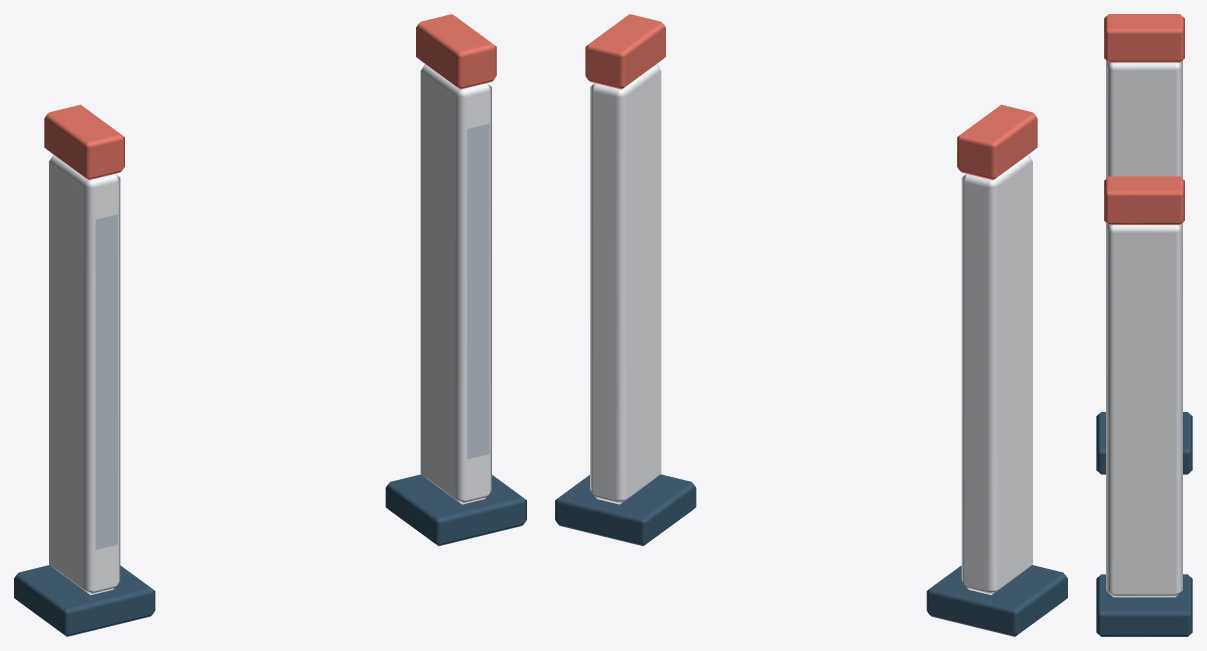
File: CM_Interior_SecurityGate.fbx
The picture shows the model from 3 angles, left to right: view 1: azimuth 30°, elevation 25°; view 2: azimuth 150°, elevation 25°; view 3: azimuth 270°, elevation 25°; orthographic projection. The views are drawn at different scales.
Parts seen in each view (by area): view 1: Body, Alarm; view 2: Body, Alarm; view 3: Body, Alarm.
Boxes of the visible parts, x1,y1,x2,y2 form: Body: [14, 64, 526, 636]; Alarm: [44, 14, 496, 179]; Body: [555, 64, 1067, 636]; Alarm: [585, 14, 1037, 179]; Body: [1096, 60, 1192, 636]; Alarm: [1104, 14, 1184, 224].
Bounding box in the file's own units: 5 × 1 × 5.
1 material, 1 textured.
